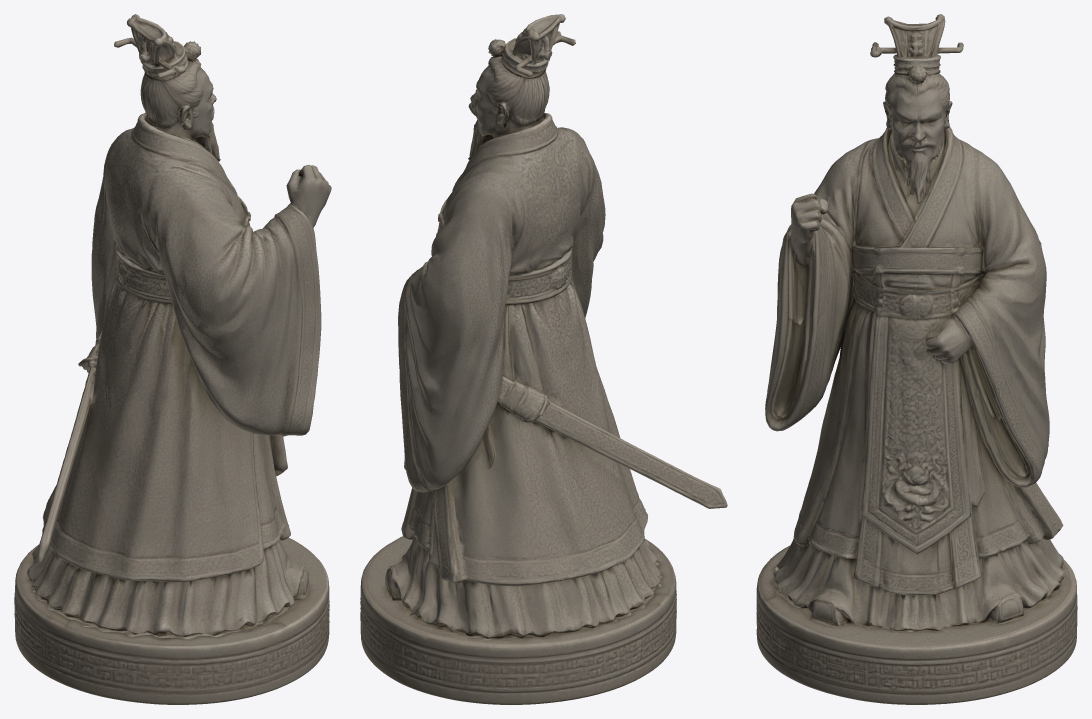
File: ancient_chinese_statue_3d_model_3.fbx
3 views of the same model, side by side, from view 1: azimuth 30°, elevation 25°; view 2: azimuth 150°, elevation 25°; view 3: azimuth 270°, elevation 25° (orthographic).
Parts seen in each view (by area): view 1: tripo_node_5a917c1d; view 2: tripo_node_5a917c1d; view 3: tripo_node_5a917c1d.
Boxes of the visible parts, x1,y1,x2,y2 form: tripo_node_5a917c1d: (14,14,331,704); tripo_node_5a917c1d: (360,14,727,704); tripo_node_5a917c1d: (756,14,1077,704).
Bounding box in the file's own units: 0.504 × 0.979 × 0.462.
